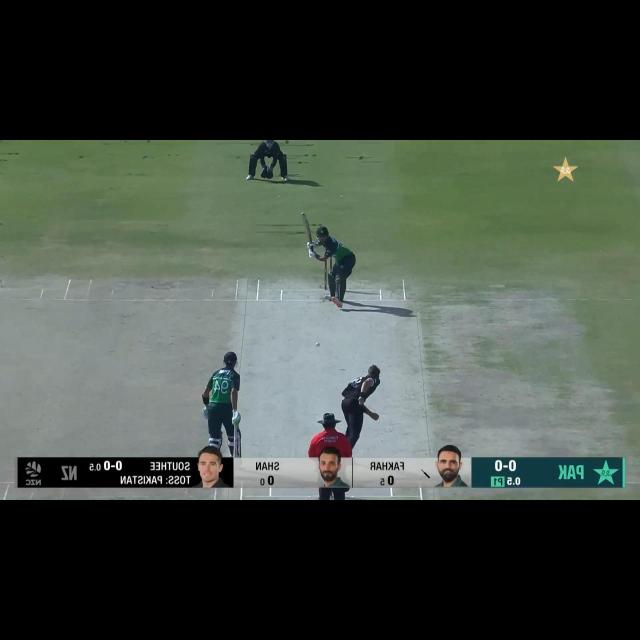bat: (299, 212, 317, 243), (232, 434, 243, 458)
toe: (299, 211, 307, 220)
